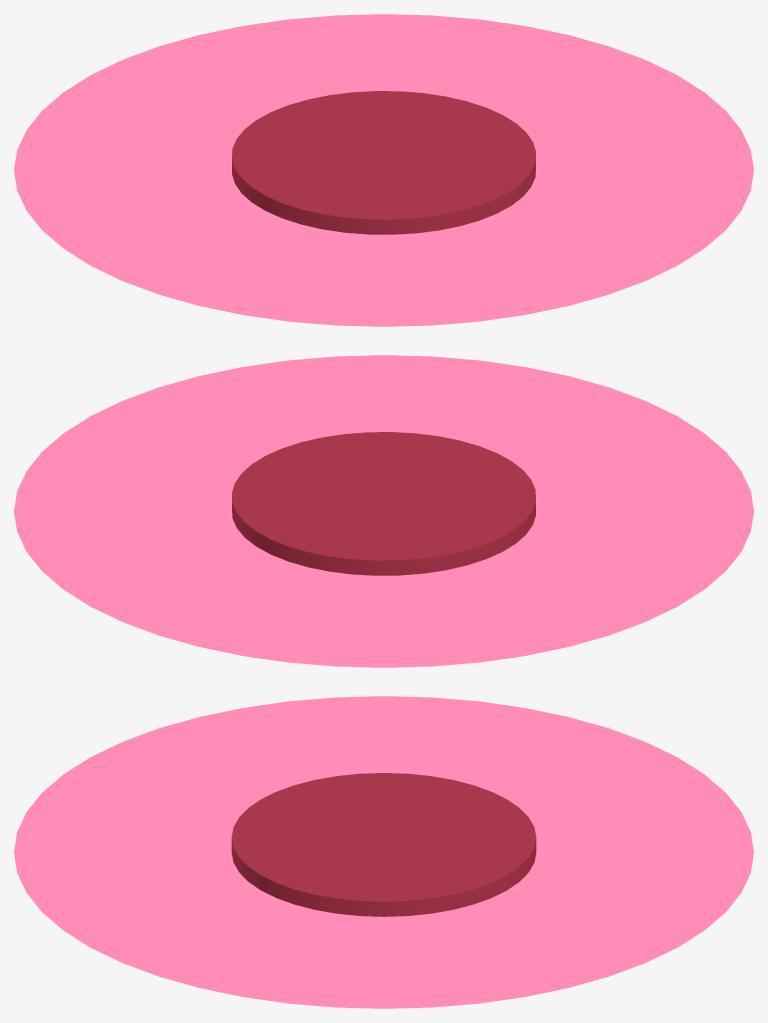
The model's file is pad-6e0b14.glb.
The picture shows the model from 3 angles, top to bottom: view 1: azimuth 30°, elevation 25°; view 2: azimuth 150°, elevation 25°; view 3: azimuth 270°, elevation 25°; orthographic projection.
Visible parts, largest first — view 1: plat; view 2: plat; view 3: plat.
Boxes of the visible parts, x1,y1,x2,y2 form: plat: (14, 14, 753, 326); plat: (14, 355, 753, 667); plat: (14, 696, 753, 1008).
Size of the model in its own units: 3.4 by 0.08 by 3.4.
Materials: 2 (2 with a texture image).
